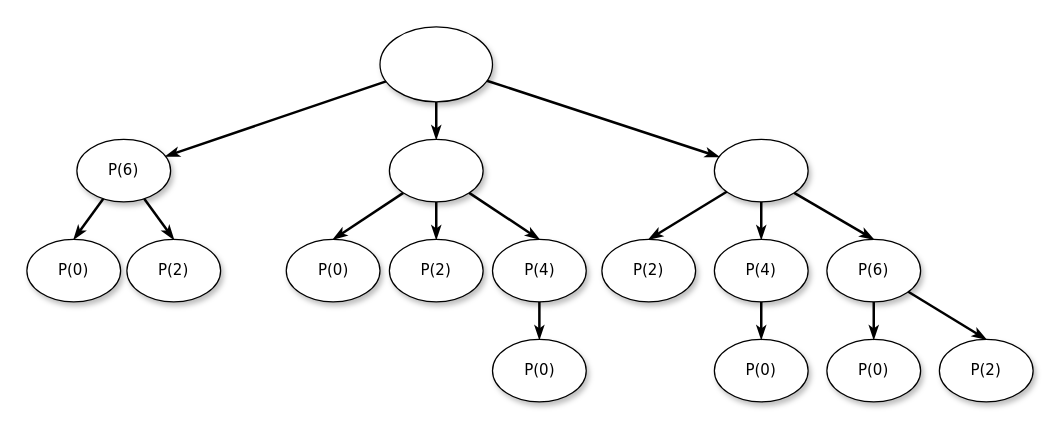
This 1063x433 diagram has some shape labels left out. Here are the shapes that lost their labels. From the top down, the centre of each, then its label:
At [437,66]: "P(14)".
At [437,172]: "P(8)".
At [762,172]: "P(10)".
